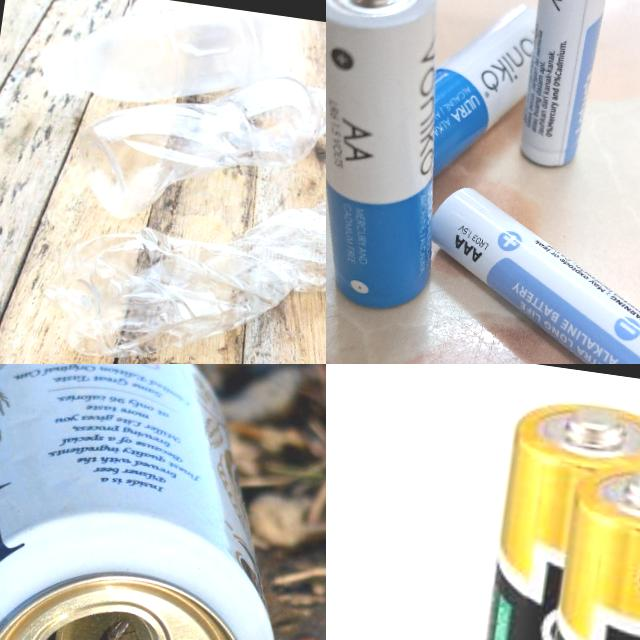bateria: (435, 390, 640, 640), (326, 0, 474, 316), (410, 183, 640, 364), (419, 0, 538, 183), (513, 0, 620, 172)
garrafa plástica: (33, 121, 326, 364), (72, 52, 326, 249), (34, 0, 302, 128)
lata: (0, 364, 320, 640)
